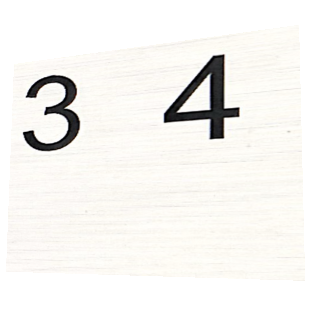four: (158, 52, 242, 141)
three: (20, 73, 84, 153)
